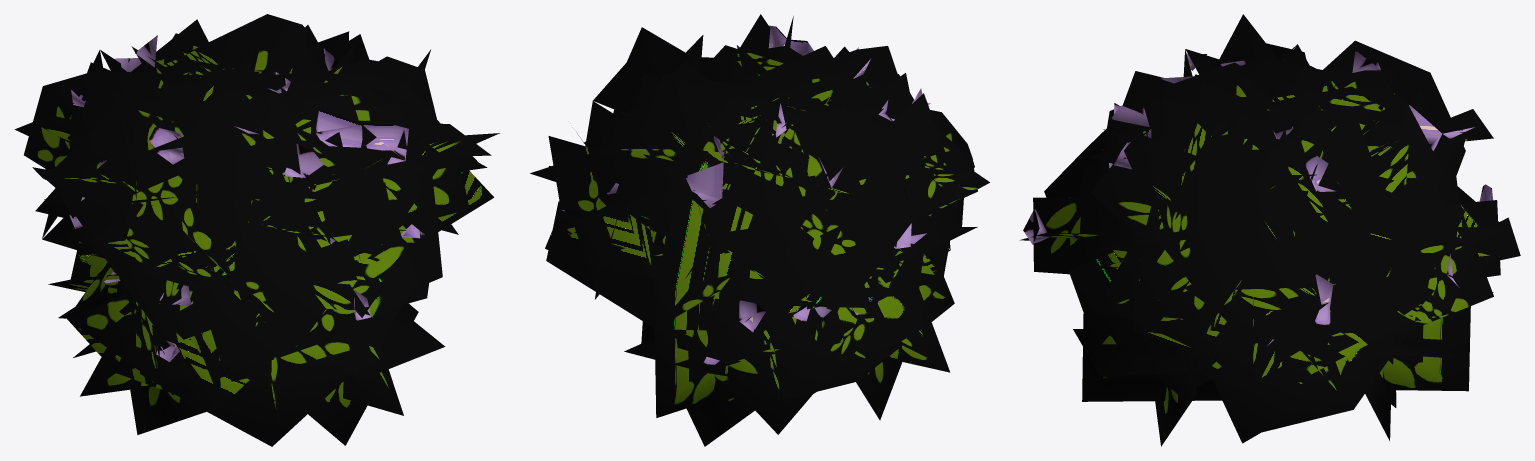
File: Bush_Common_Flowers.gltf
3 views of the same model, side by side, from view 1: azimuth 30°, elevation 25°; view 2: azimuth 150°, elevation 25°; view 3: azimuth 270°, elevation 25° (orthographic). The views are drawn at different scales.
Visible parts, largest first — view 1: Bush_Common_Flowers; view 2: Bush_Common_Flowers; view 3: Bush_Common_Flowers.
Part boxes in pixels (<box>): Bush_Common_Flowers: <box>14,14,499,446</box>; Bush_Common_Flowers: <box>530,14,989,446</box>; Bush_Common_Flowers: <box>1020,14,1520,446</box>.
Size of the model in its own units: 1.91 by 1.56 by 1.97.
Materials: 2 (2 with a texture image).
